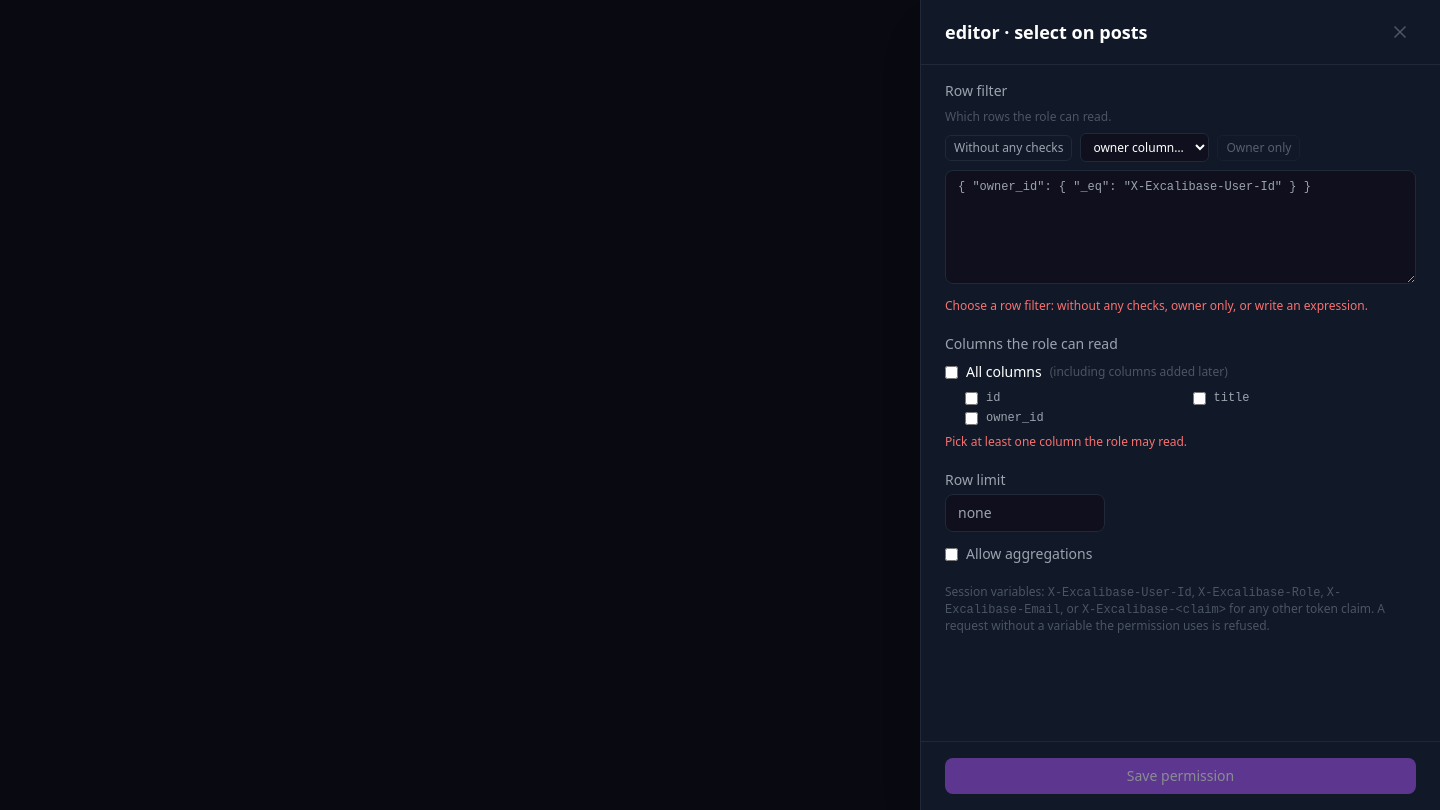
it: PermissionEditor › a refused save shows the server's reason, not the status code
Click the button "Without any checks".
click(1009, 148)  # box [945, 134, 1072, 160]
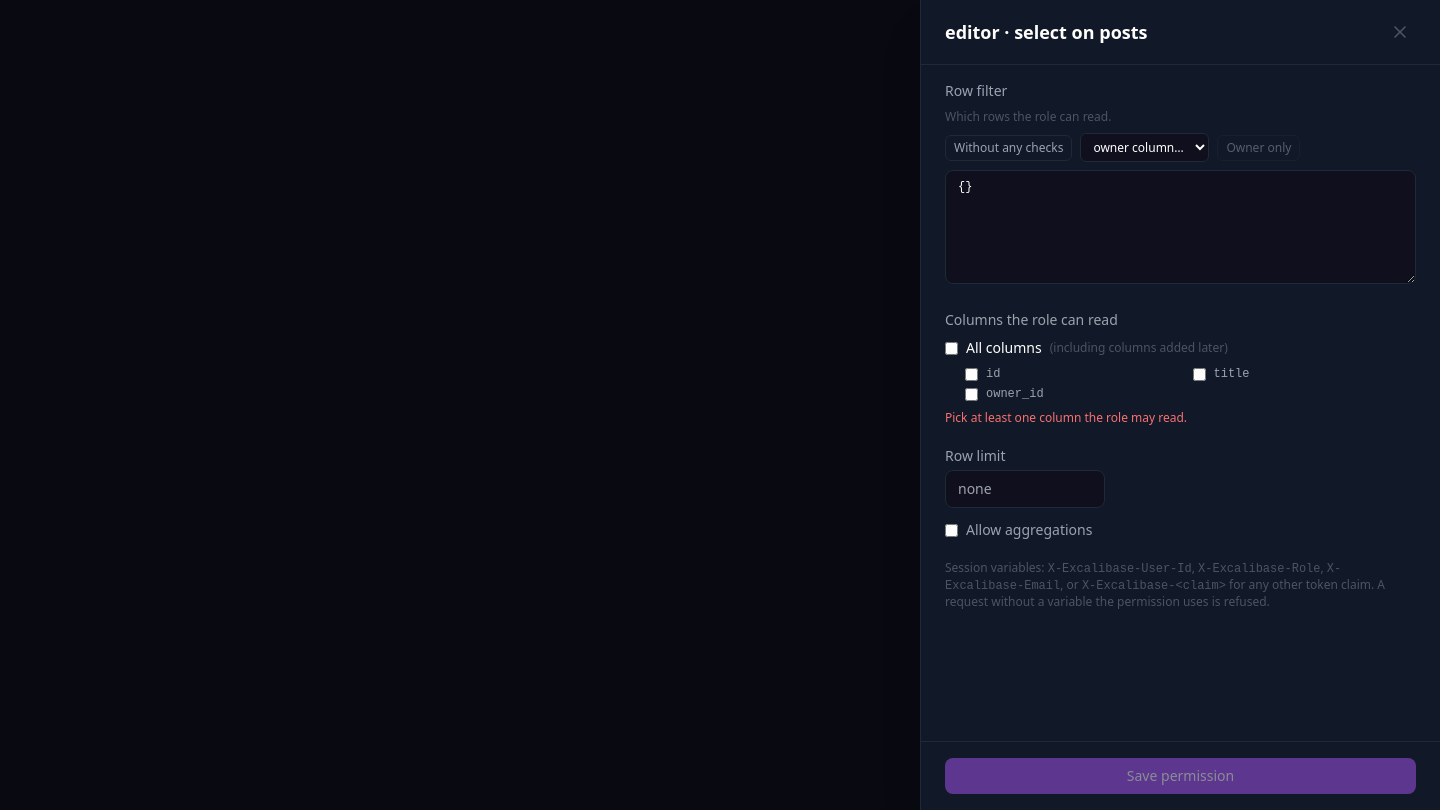
Click the checkbox labelled "All columns".
click(952, 348)  # box [945, 342, 958, 354]
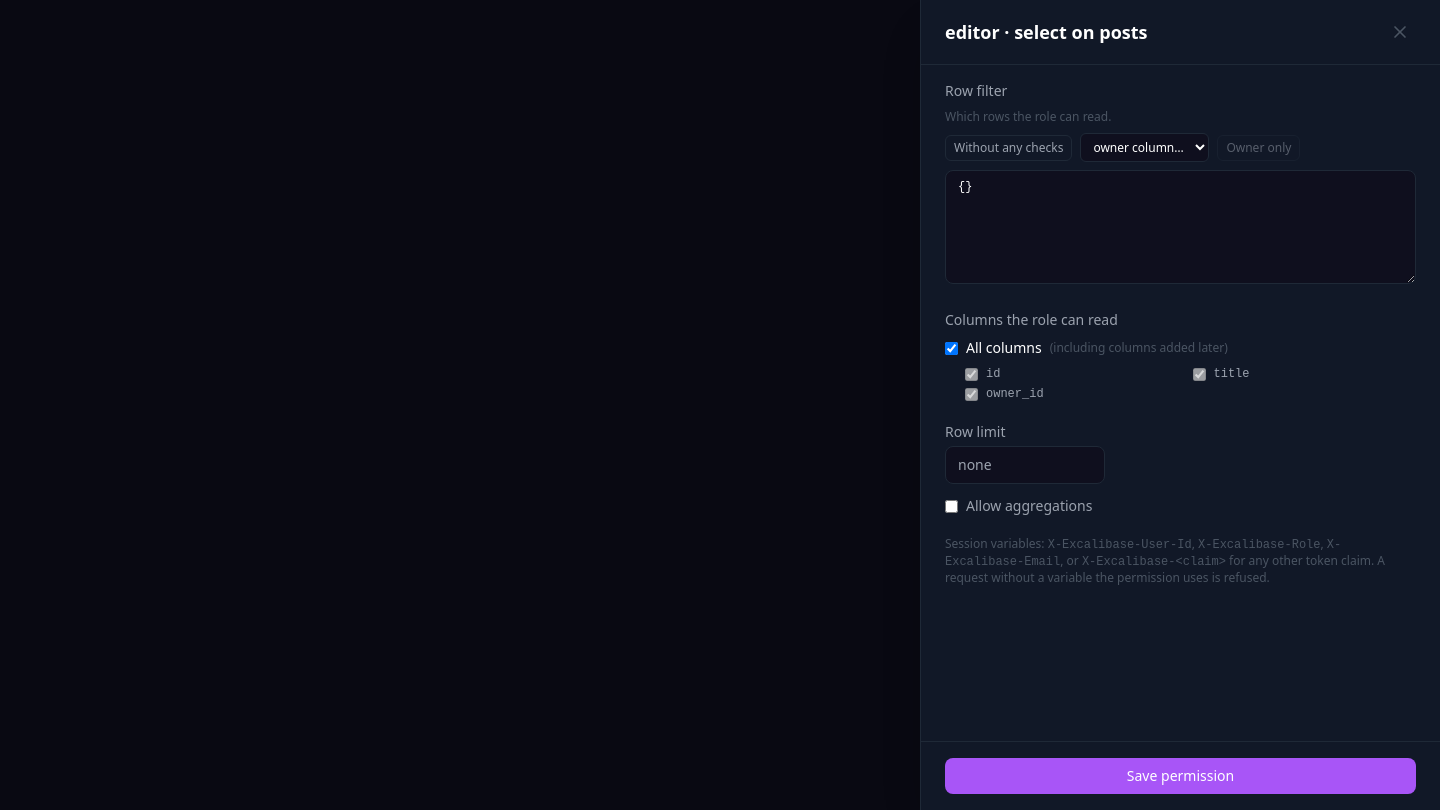
Click the button "Save permission".
click(1180, 776)  # box [945, 758, 1416, 794]
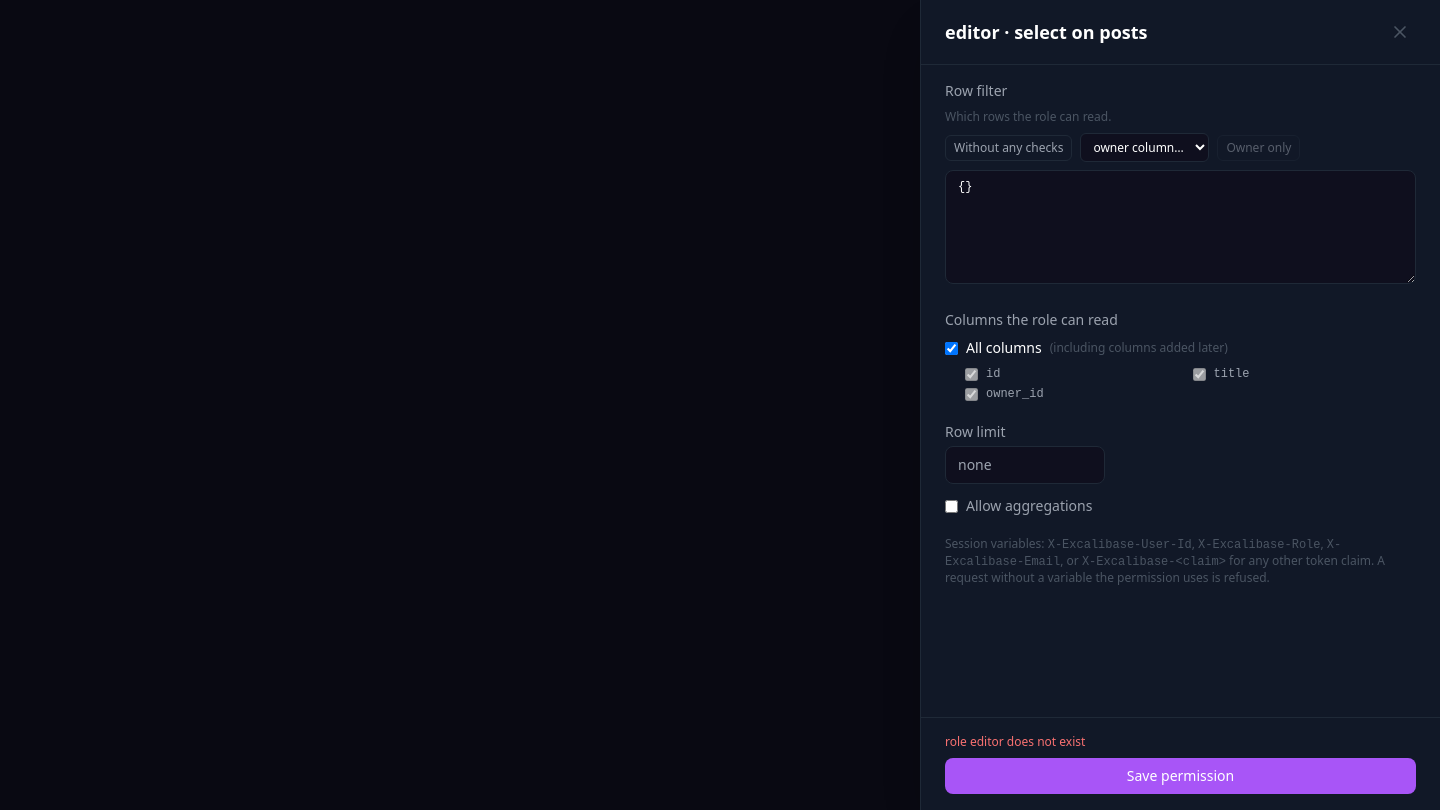
Expected: the message with test id "permission-save-error" reads "role editor does not exist", [945, 733, 1085, 750]
